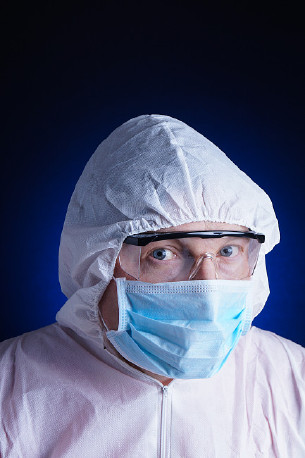face_mask: (107, 222, 251, 379)
